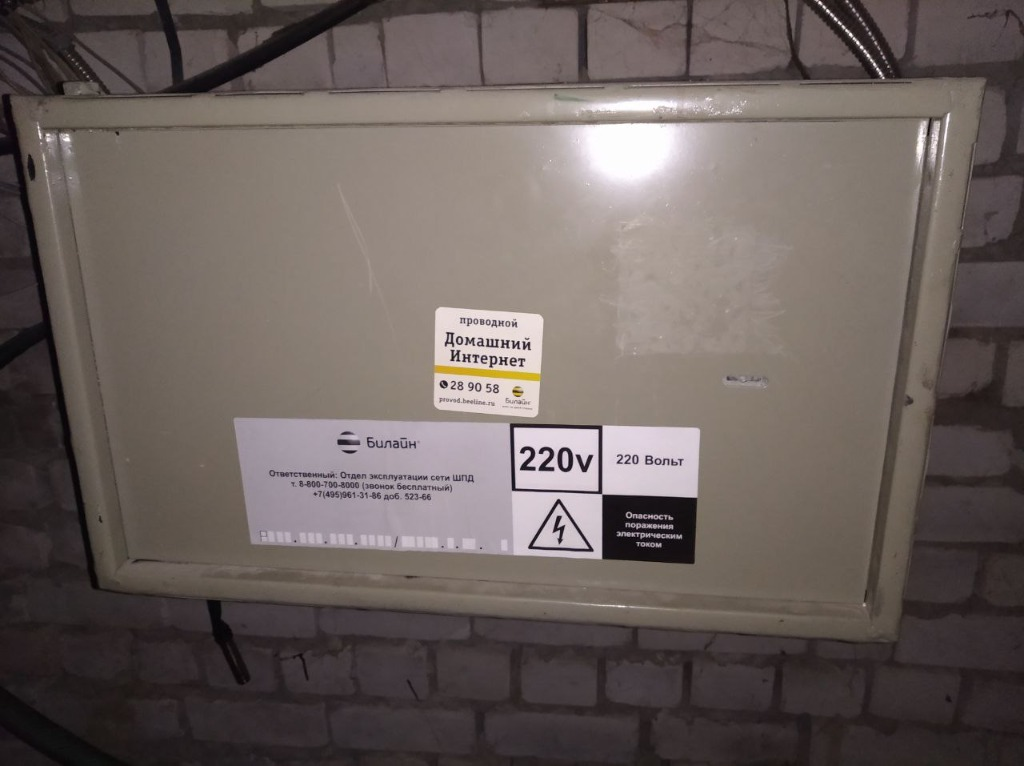e2-6u: (8, 77, 990, 652)
